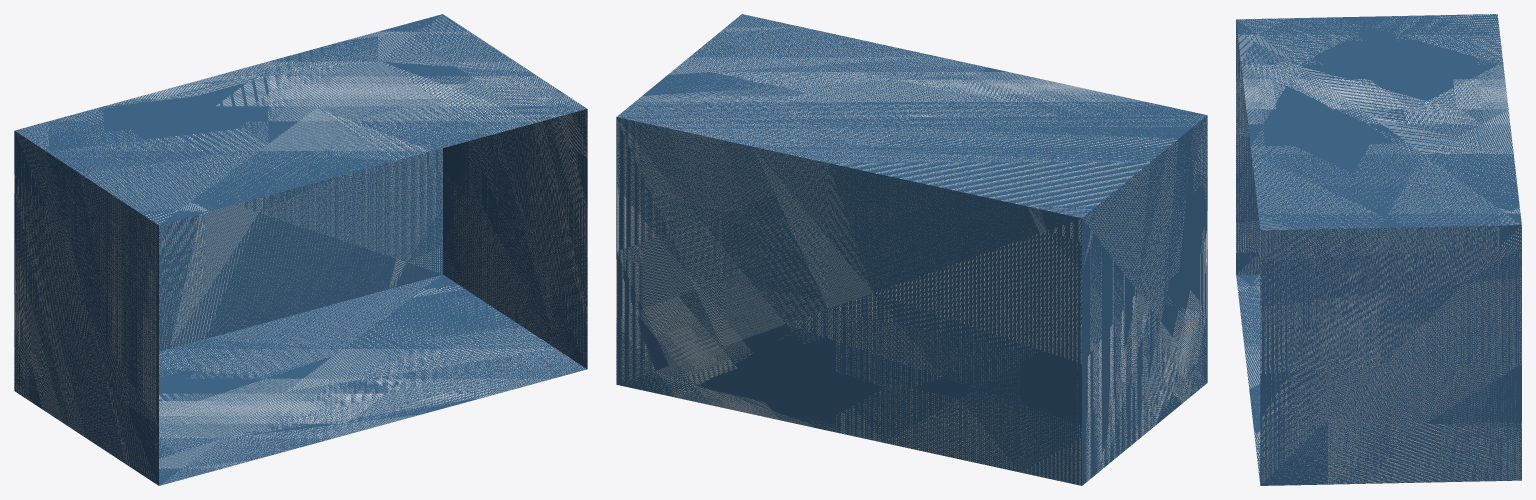
The model's file is original-2.obj.
3 renders of one model, left to right at view 1: azimuth 30°, elevation 25°; view 2: azimuth 150°, elevation 25°; view 3: azimuth 270°, elevation 25°, orthographic. The views are drawn at different scales.
Visible parts, largest first — view 1: #ID6; view 2: #ID6; view 3: #ID6.
Boxes of the visible parts, box(x1,y1,x2,y2) form: #ID6: box(14, 14, 587, 485); #ID6: box(616, 14, 1207, 485); #ID6: box(1236, 14, 1521, 485).
Bounding box in the file's own units: 0.1003 × 0.0552 × 0.056.
